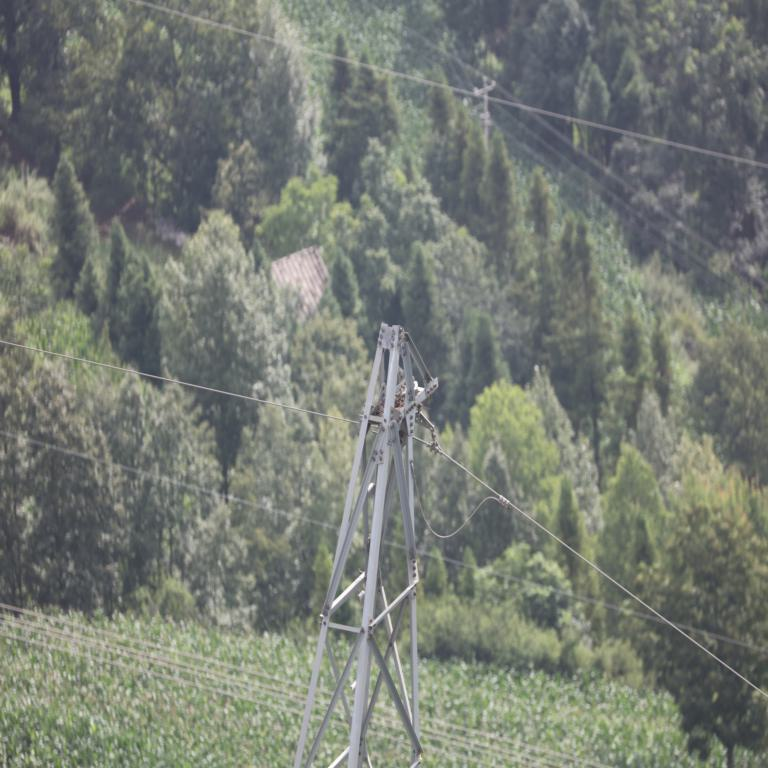nest: (378, 399, 409, 419)
